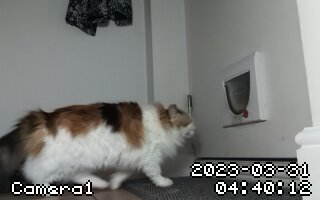clara: (2, 98, 200, 190)
